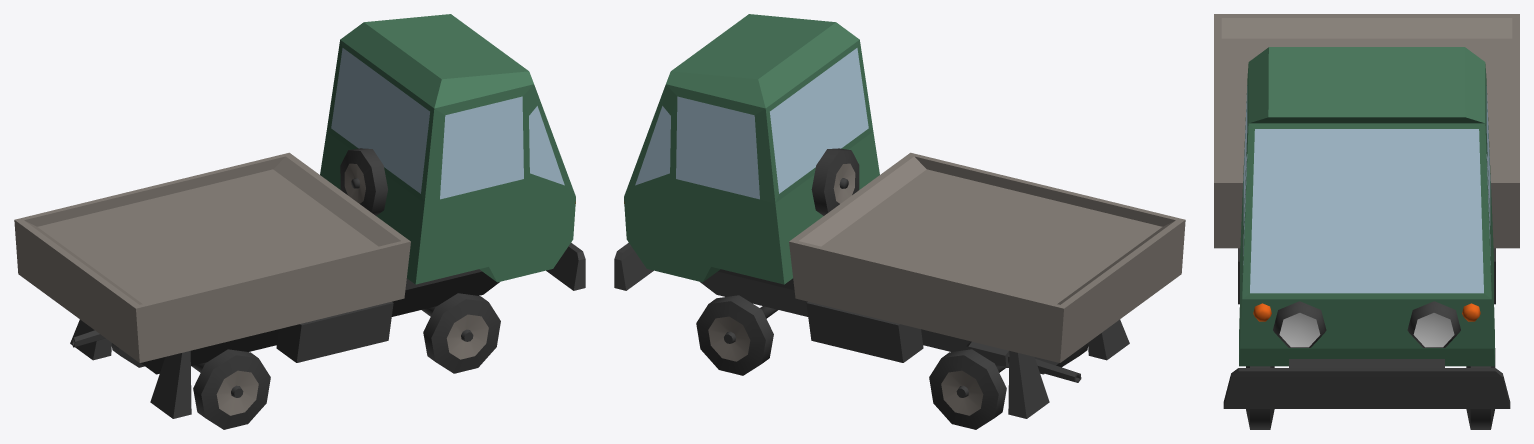
Rendered from multicar_01.fbx.
The picture shows the model from 3 angles, left to right: view 1: azimuth 30°, elevation 25°; view 2: azimuth 150°, elevation 25°; view 3: azimuth 270°, elevation 25°; orthographic projection. The views are drawn at different scales.
Parts seen in each view (by area): view 1: multicar_01, MULTICAR-WHEELS-BACK, MULTICAR-WHEELS-FRONT; view 2: multicar_01, MULTICAR-WHEELS-BACK, MULTICAR-WHEELS-FRONT, MULTICAR-VYFUK; view 3: multicar_01, MULTICAR-WHEELS-FRONT.
Part boxes in pixels (<box>): multicar_01: <box>14,14,585,418</box>; MULTICAR-WHEELS-BACK: <box>111,343,270,429</box>; MULTICAR-WHEELS-FRONT: <box>422,293,500,373</box>; multicar_01: <box>614,14,1185,418</box>; MULTICAR-WHEELS-BACK: <box>929,343,1088,429</box>; MULTICAR-WHEELS-FRONT: <box>696,295,777,375</box>; MULTICAR-VYFUK: <box>966,341,1081,382</box>; multicar_01: <box>1214,14,1519,408</box>; MULTICAR-WHEELS-FRONT: <box>1246,348,1495,429</box>.
Size of the model in its own units: 427 by 257 by 195.
